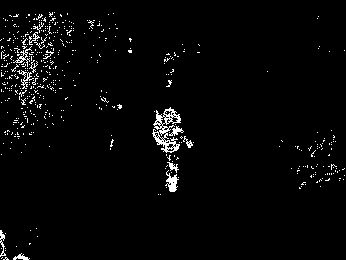person: (153, 107, 193, 197)
